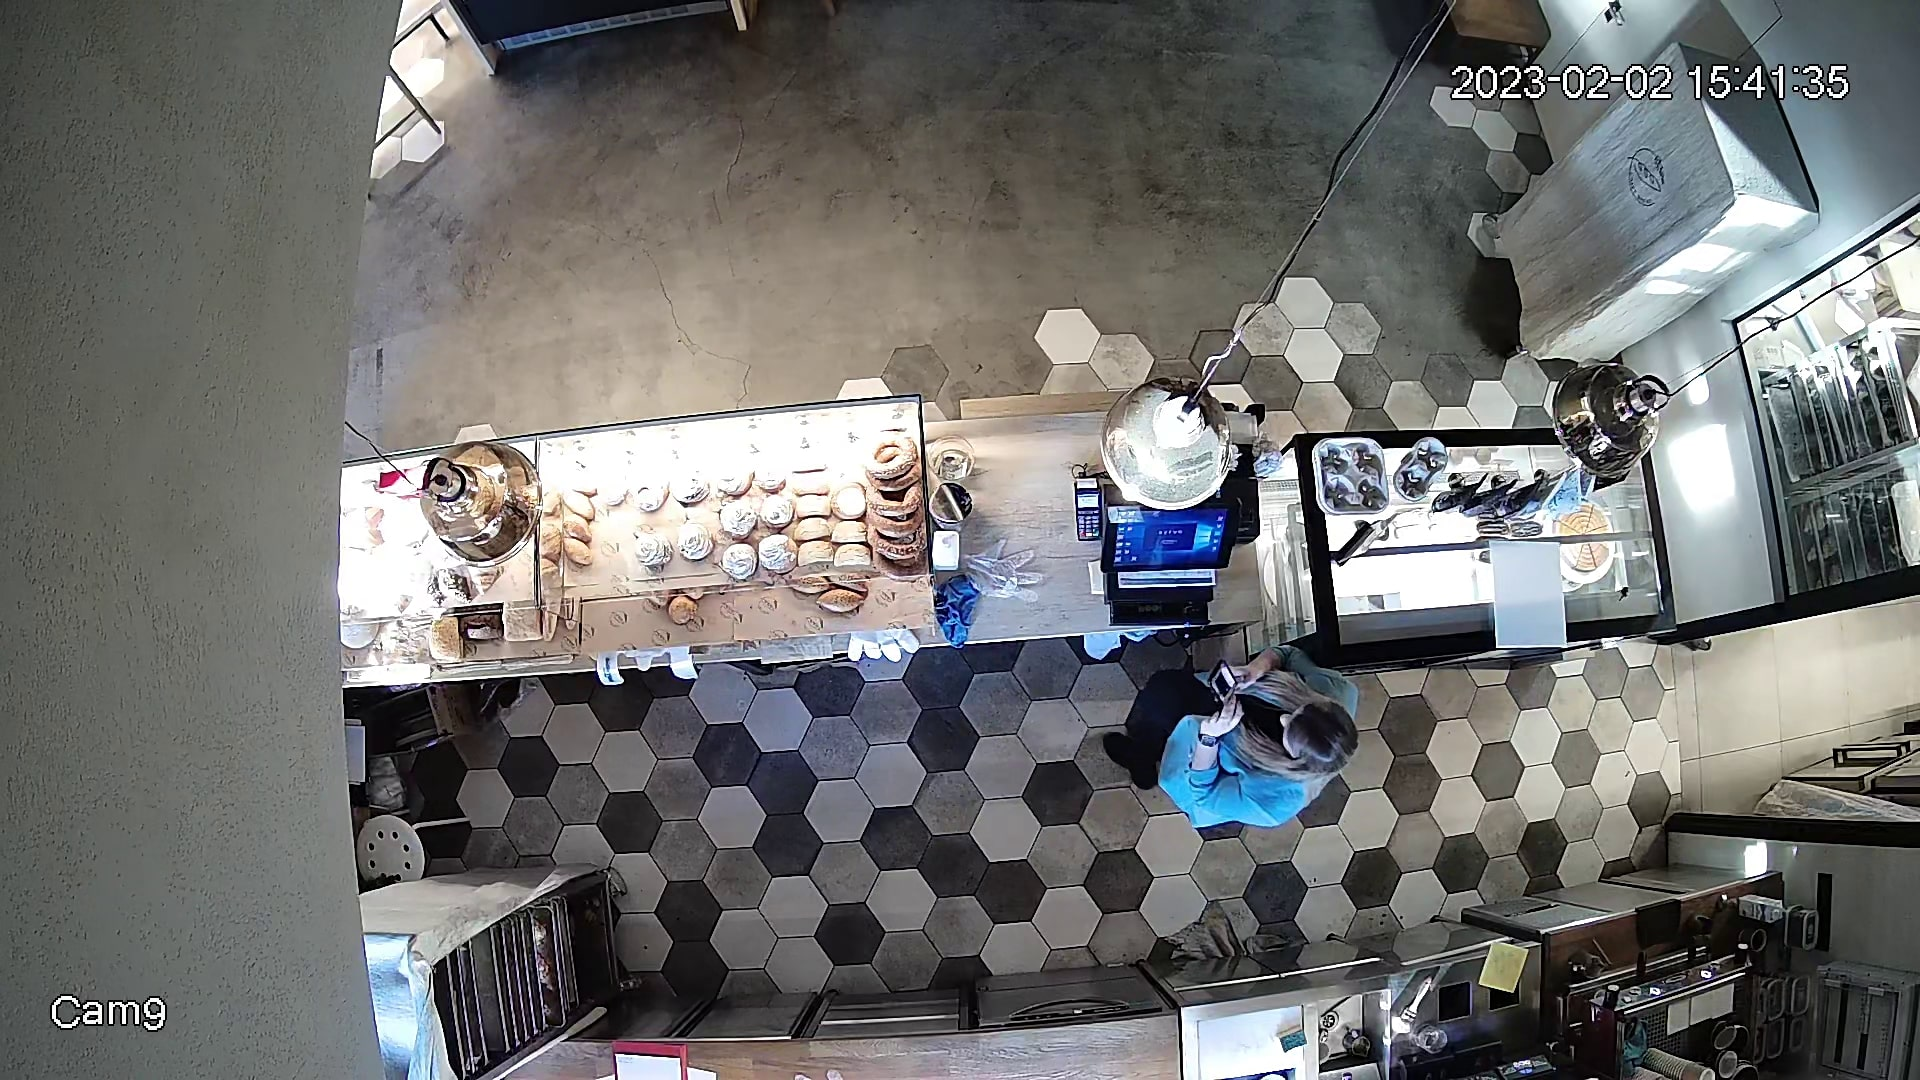barcounter: (342, 441, 1692, 674)
person: (1119, 665, 1389, 842)
